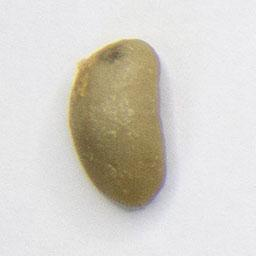longberry: (65, 34, 170, 209)
